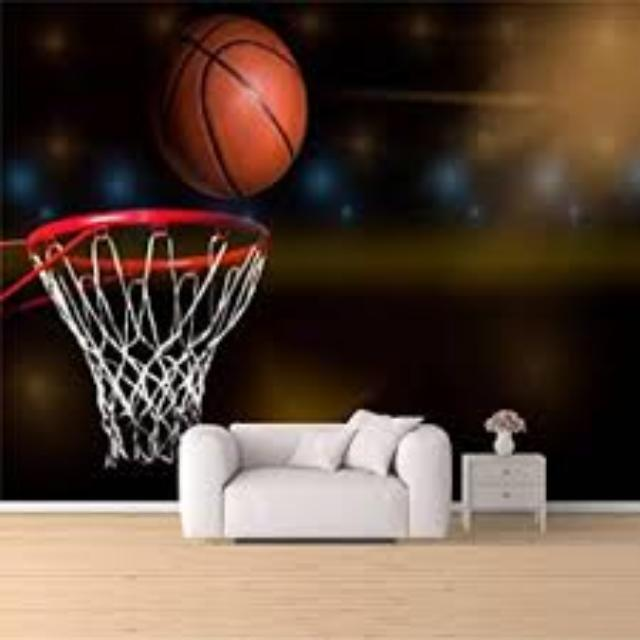basketball: (148, 12, 308, 200)
rim: (23, 206, 271, 422)
